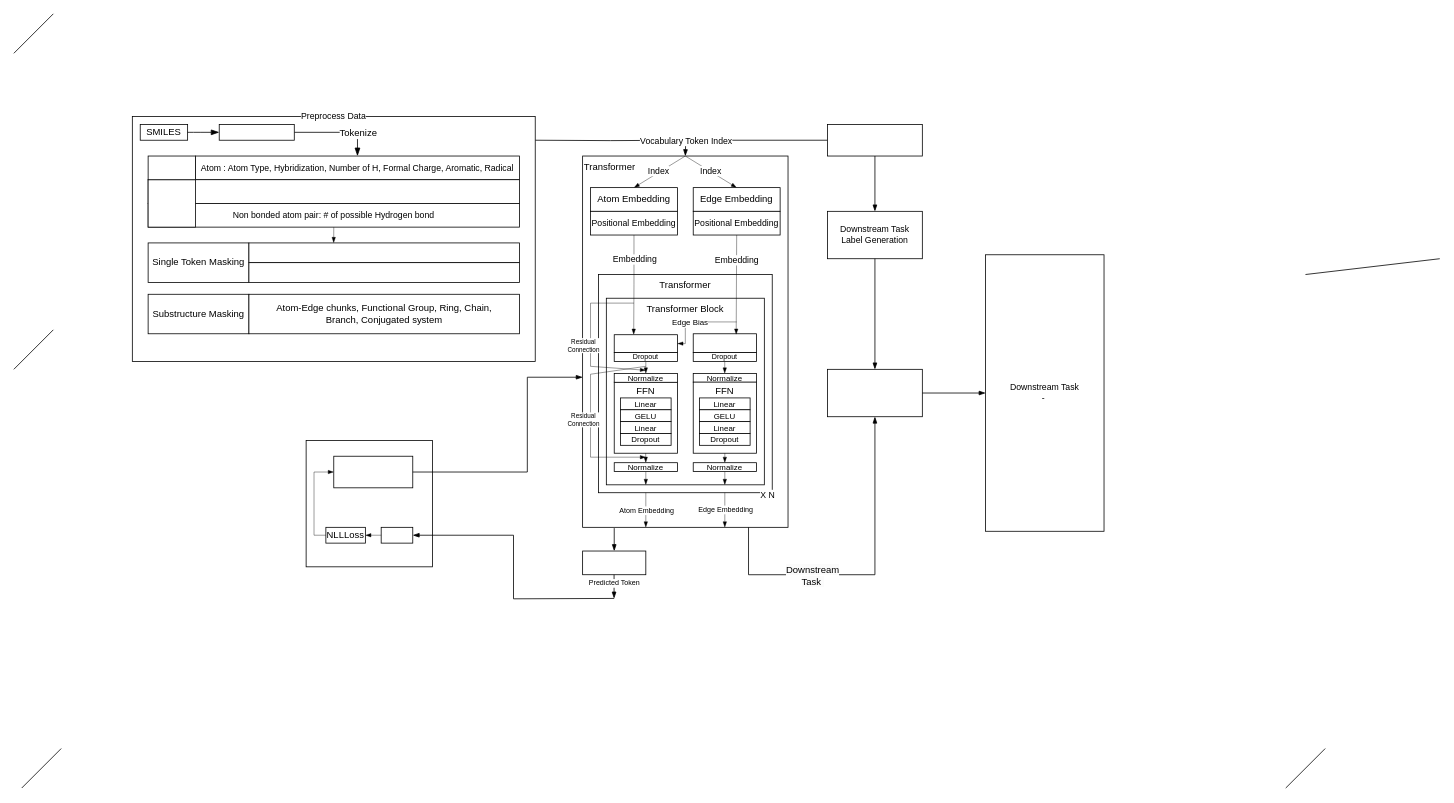
The diagram is 1454 pixels wide and 803 high, and some of its shapes have lost their labels. Here are the shapes that lost their labels. From the top down, the centre of each, then its label:
At point (256, 132): "RDKit Molecule".
At point (874, 140): "Tokenized Data".
At point (171, 167): "Node".
At point (171, 203): "Edge".
At point (333, 191): "Bond : Bond Type, Ring, Conjugated, Stereo".
At point (383, 252): "Atom : Random, Biased,".
At point (383, 272): "Edge : Random, Biased,".
At point (645, 343): "Edge-Biased Atom Attention".
At point (724, 343): "Edge Axial Attention".
At point (874, 393): "Downstream Model Training".
At point (373, 471): "Backpropagate by Adam".
At point (396, 535): "Loss".
At point (614, 562): "Masked Prediction".
